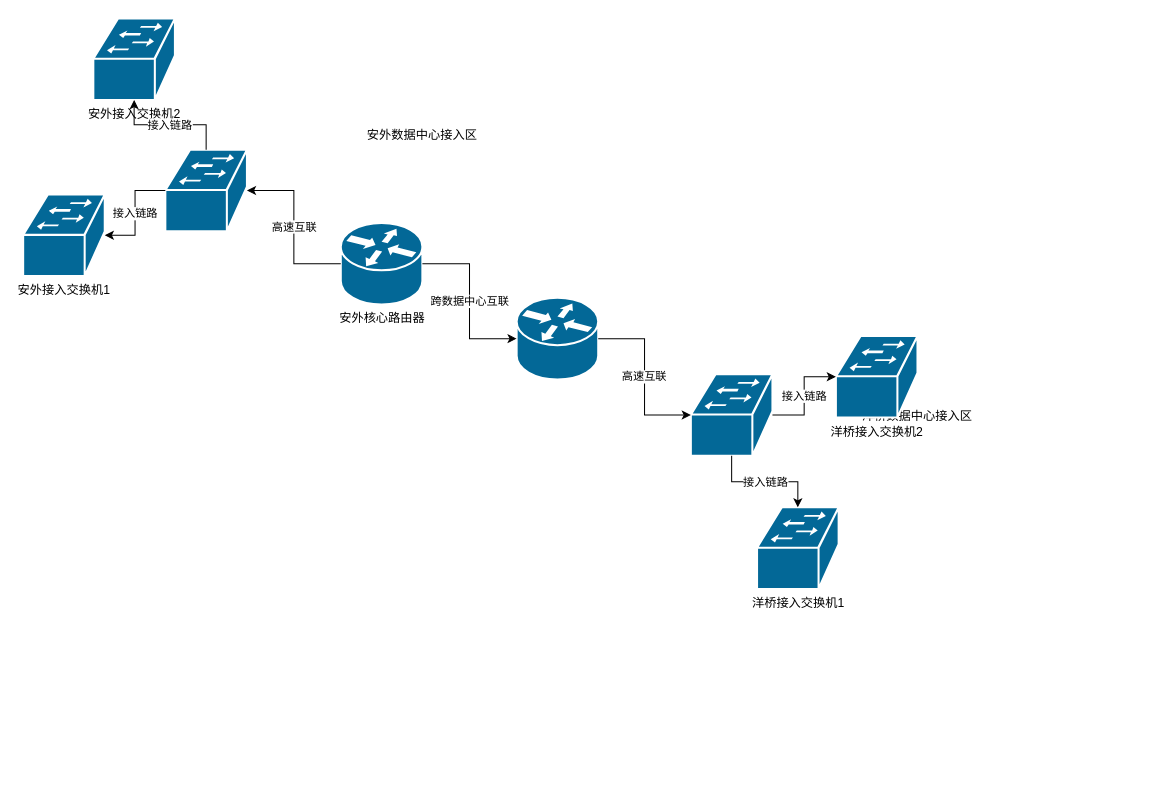
Image size: 1176x794. Some labels were removed from this diagram. The shapes that lost their labels are listed below. From the top down, each one's centre as x and y in pixels, then its label:
At [205,190]: "安外汇聚交换机".
At [557,338]: "洋桥核心路由器".
At [731,414]: "洋桥汇聚交换机".
